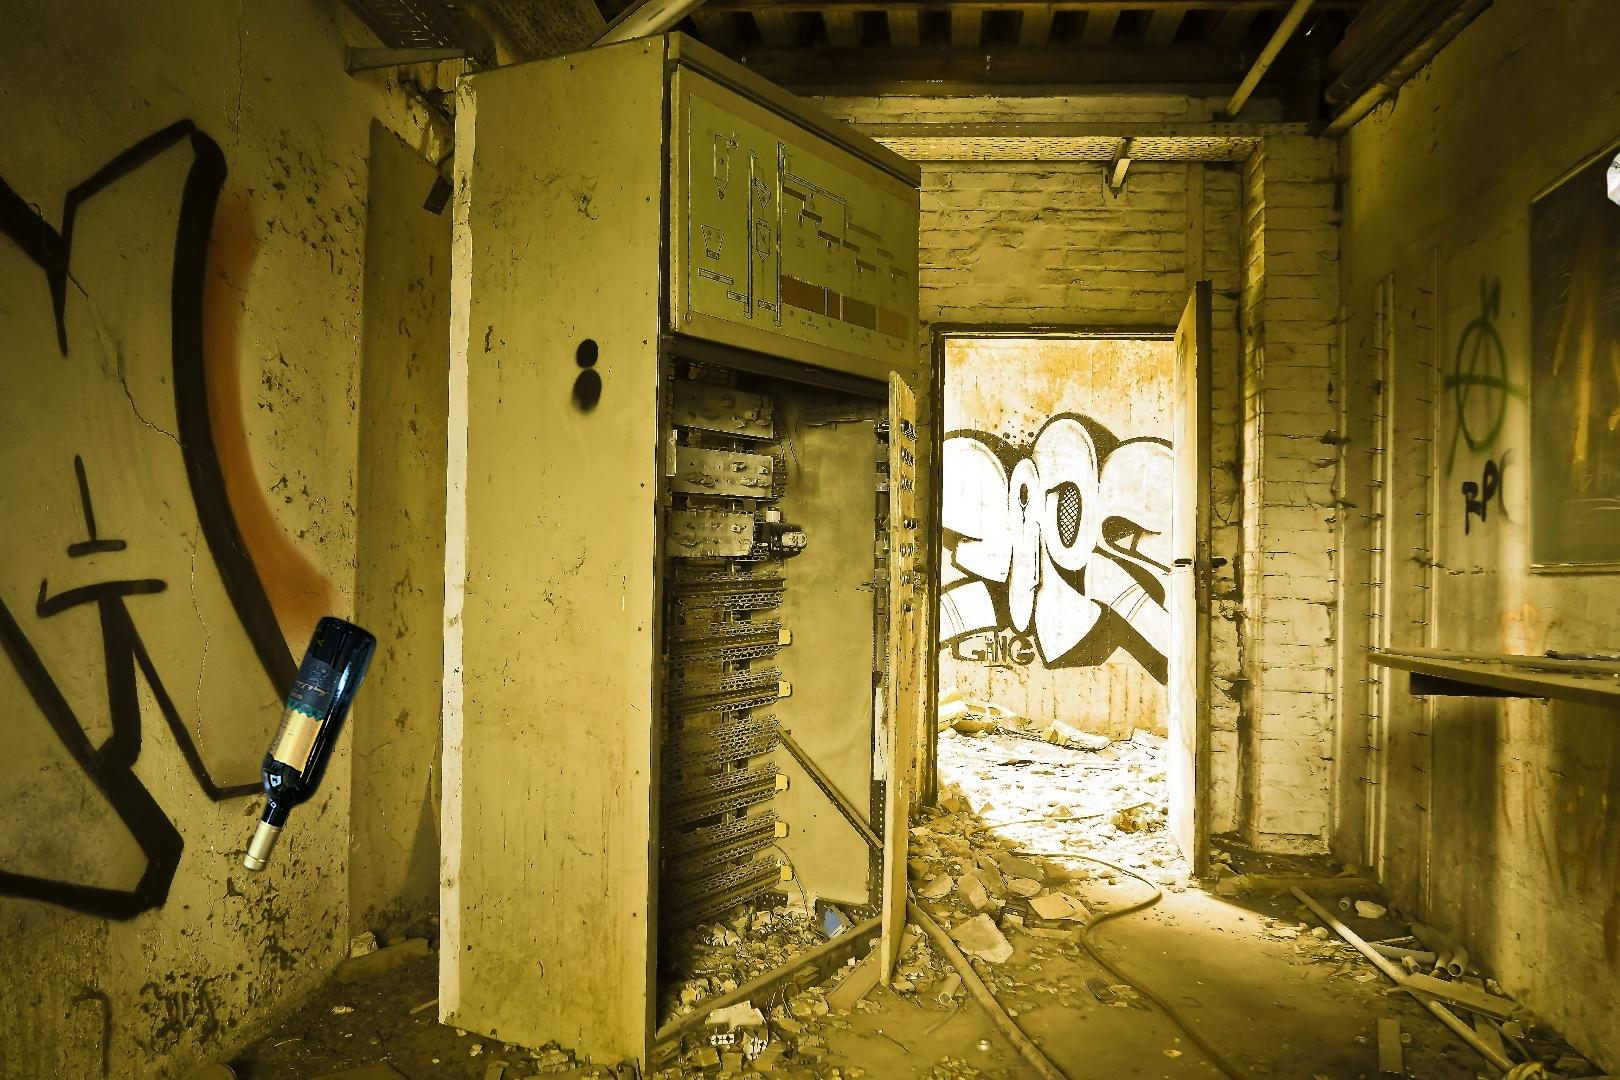glass: (237, 610, 381, 877)
metal-cans: (1401, 140, 1620, 354)
